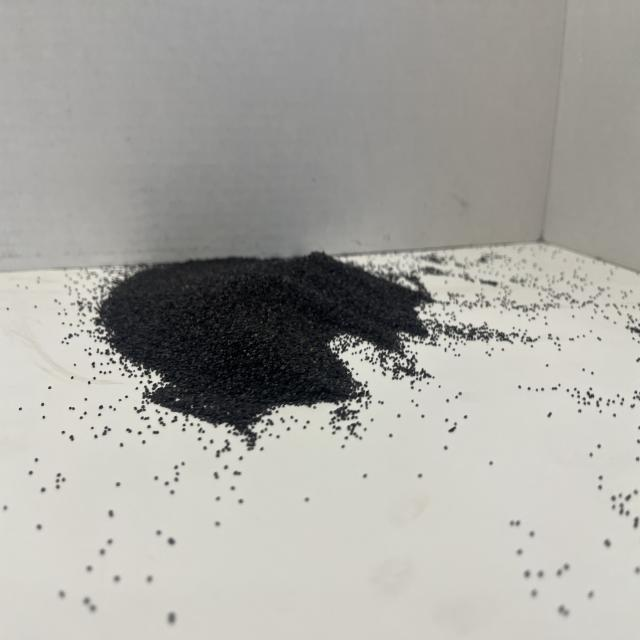Poppy Seeds: (102, 242, 430, 440)
